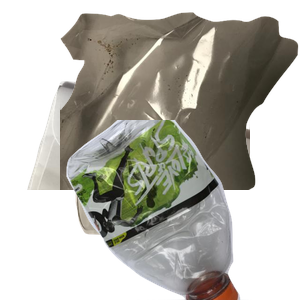glass: (73, 153, 284, 300)
paper: (25, 79, 265, 259)
plastic: (64, 120, 300, 300)
trash: (60, 10, 300, 190)
